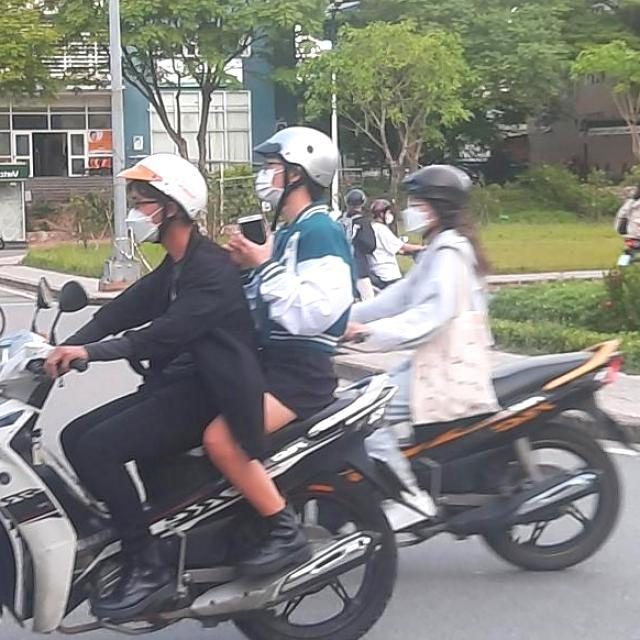Helmet: (120, 153, 214, 250), (253, 125, 343, 208), (403, 165, 468, 229)
